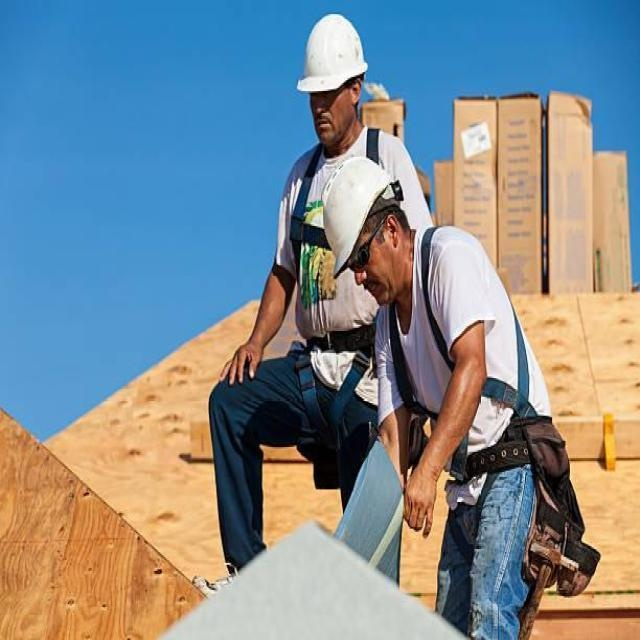Arnes_seguridad: (387, 224, 560, 570), (285, 123, 388, 450)
